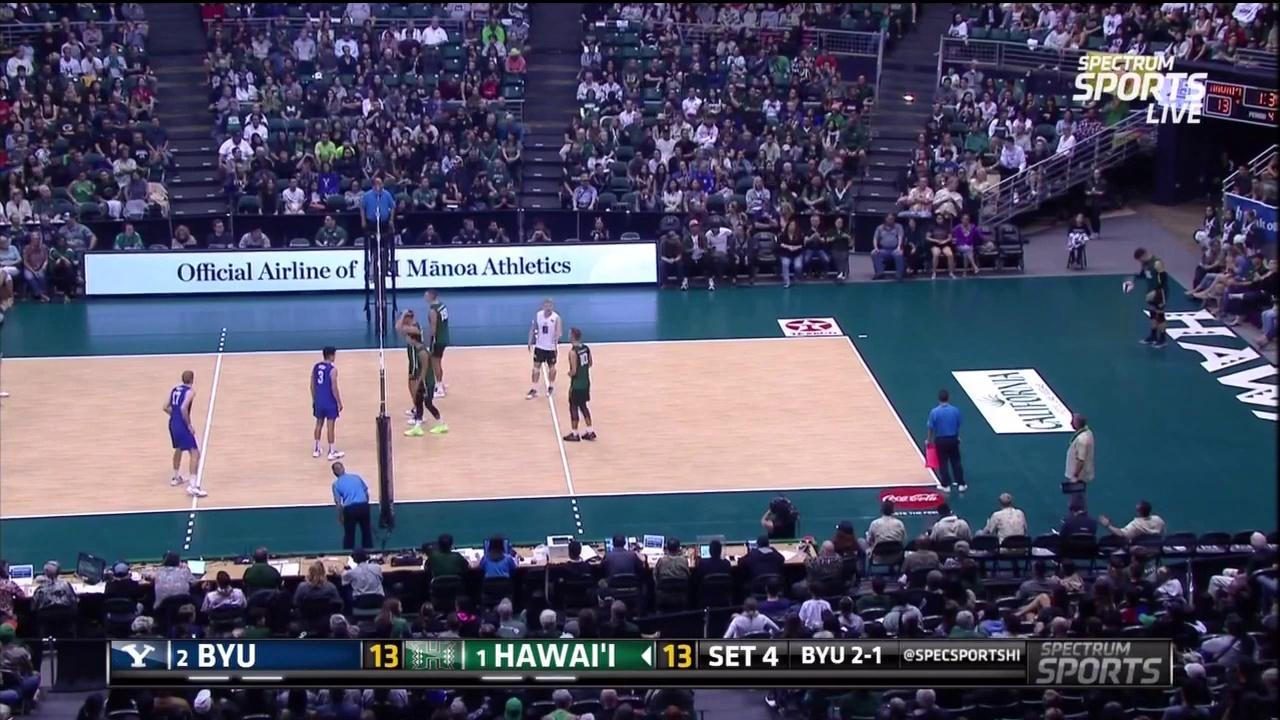player: (1119, 243, 1177, 355), (405, 331, 454, 446), (416, 286, 462, 401), (162, 373, 203, 493), (396, 305, 439, 416), (526, 300, 563, 399), (311, 346, 343, 460), (567, 327, 597, 440), (0, 289, 11, 401)
refree: (928, 385, 973, 495), (324, 461, 376, 547), (359, 174, 400, 249)
